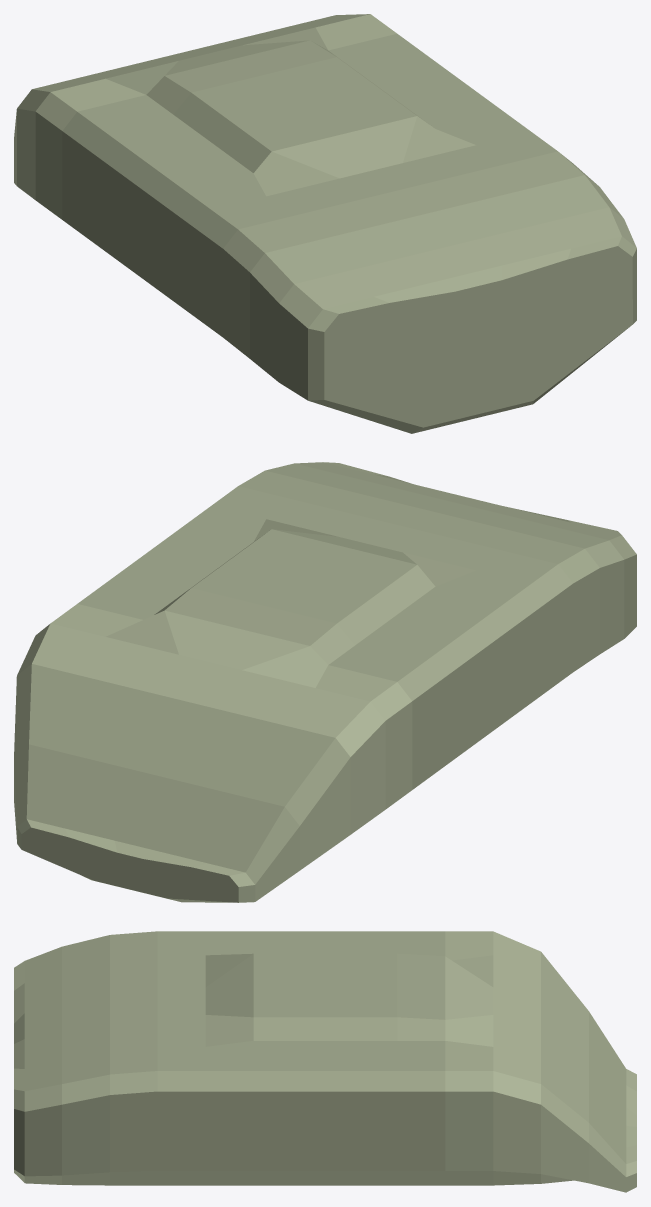
File: hartmann_light_a.glb
3 views of the same model, one above another, from view 1: azimuth 30°, elevation 25°; view 2: azimuth 150°, elevation 25°; view 3: azimuth 270°, elevation 25° (orthographic). The views are drawn at different scales.
Visible parts, largest first — view 1: hartmann_light_a; view 2: hartmann_light_a; view 3: hartmann_light_a.
Boxes of the visible parts, left/top/right/bottom form: hartmann_light_a: left=14, top=14, right=636, bottom=433; hartmann_light_a: left=14, top=462, right=636, bottom=902; hartmann_light_a: left=14, top=931, right=636, bottom=1192.
Size of the model in its own units: 2.9 by 1.52 by 5.
